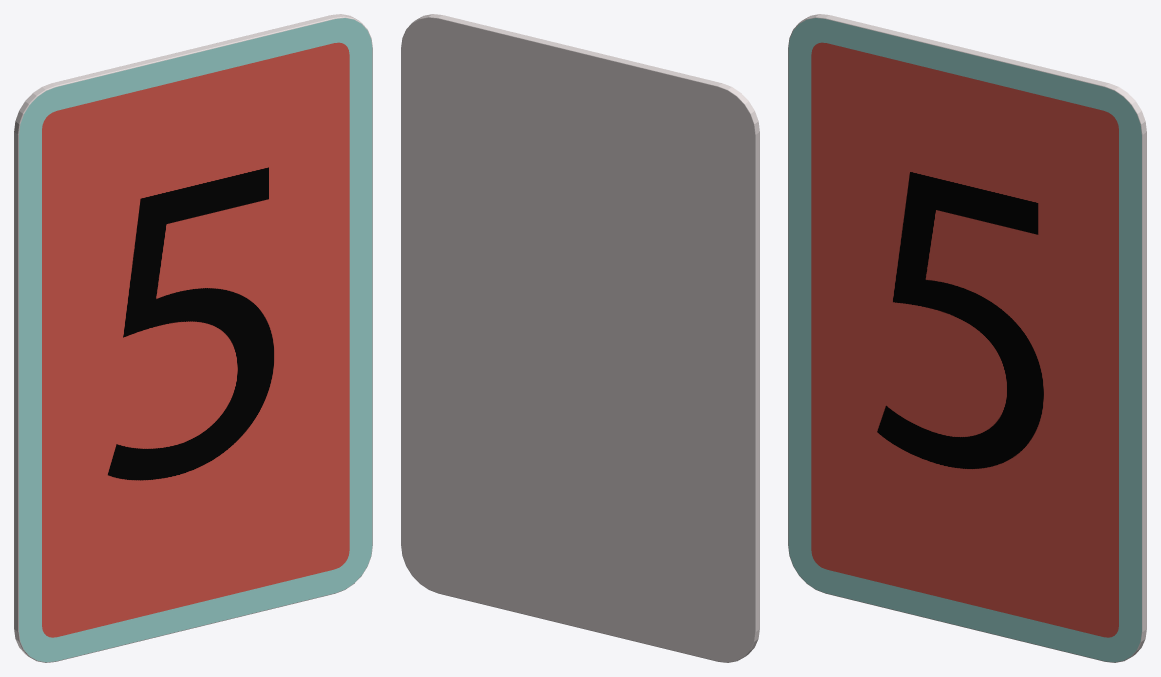
File: Hearts_5.fbx
The picture shows the model from 3 angles, left to right: view 1: azimuth 30°, elevation 25°; view 2: azimuth 150°, elevation 25°; view 3: azimuth 330°, elevation 25°; orthographic projection.
Parts seen in each view (by area): view 1: red5; view 2: red5; view 3: red5.
Boxes of the visible parts, x1=… form: red5: x1=14, y1=14, x2=372, y2=662; red5: x1=401, y1=14, x2=759, y2=662; red5: x1=788, y1=14, x2=1146, y2=662.
Size of the model in its own units: 200 by 310 by 4.34.
Materials: 3 (1 with a texture image).
